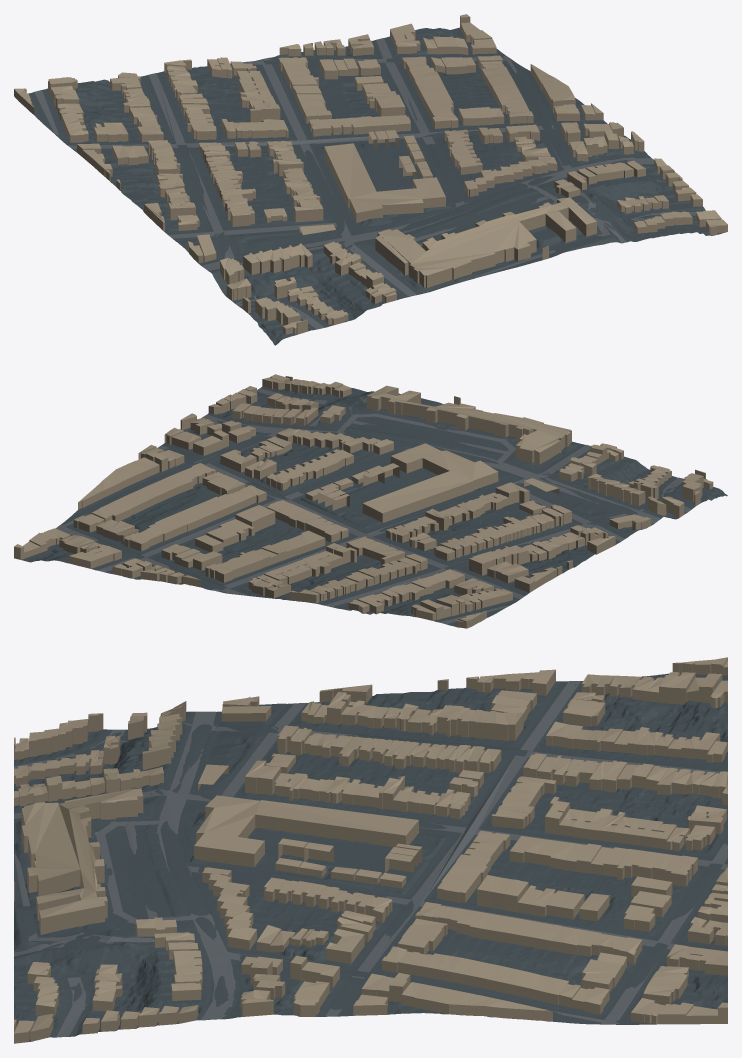
Rendered from epsg26910-1435-10874.lod0.glb.
3 renders of one model, top to bottom at view 1: azimuth 30°, elevation 25°; view 2: azimuth 150°, elevation 25°; view 3: azimuth 270°, elevation 25°, orthographic. The views are drawn at different scales.
Parts seen in each view (by area): view 1: epsg26910-1435-10874-lod0; view 2: epsg26910-1435-10874-lod0; view 3: epsg26910-1435-10874-lod0.
Boxes of the visible parts, <box> form: epsg26910-1435-10874-lod0: <box>14,14,727,345</box>; epsg26910-1435-10874-lod0: <box>14,374,727,628</box>; epsg26910-1435-10874-lod0: <box>14,657,727,1043</box>.
Bounding box in the file's own units: 384 × 56.07 × 384.
